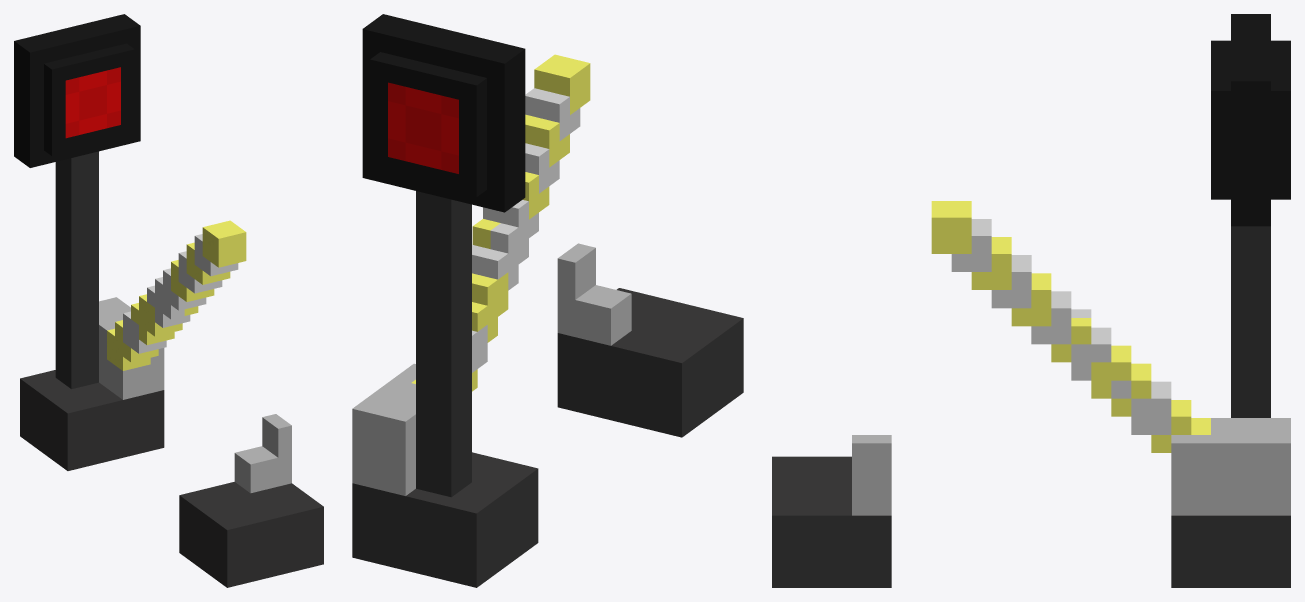
Rendered from ampel closed 2.obj.
3 renders of one model, left to right at view 1: azimuth 30°, elevation 25°; view 2: azimuth 150°, elevation 25°; view 3: azimuth 270°, elevation 25°, orthographic. The views are drawn at different scales.
Bounding box in the file's own units: 0.8 × 2.8 × 2.6.
Materials: 1 (1 with a texture image).
